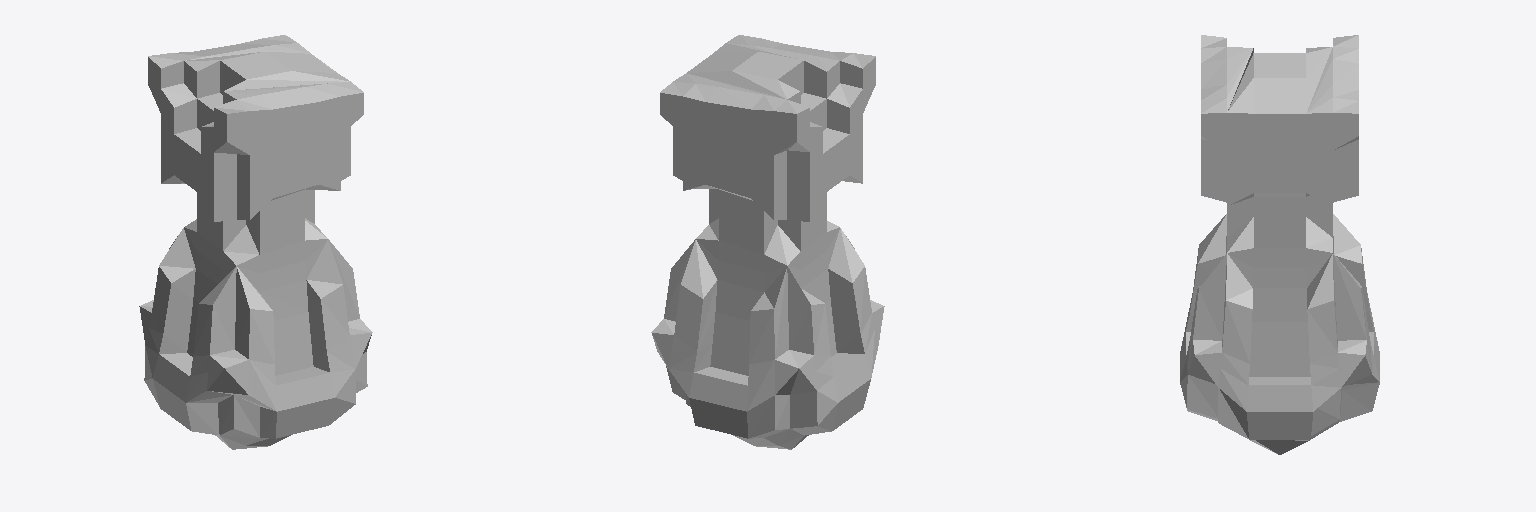
The model's file is Bot_Runner_LOD0-0.obj.
3 renders of one model, left to right at view 1: azimuth 30°, elevation 25°; view 2: azimuth 150°, elevation 25°; view 3: azimuth 270°, elevation 25°, orthographic.
Visible parts, largest first — view 1: Bot_Runner_LOD0-0; view 2: Bot_Runner_LOD0-0; view 3: Bot_Runner_LOD0-0.
Boxes of the visible parts, x1,y1,x2,y2 form: Bot_Runner_LOD0-0: [139, 35, 372, 449]; Bot_Runner_LOD0-0: [651, 35, 884, 449]; Bot_Runner_LOD0-0: [1180, 35, 1379, 454].
Bounding box in the file's own units: 0.758 × 1.6 × 0.758.